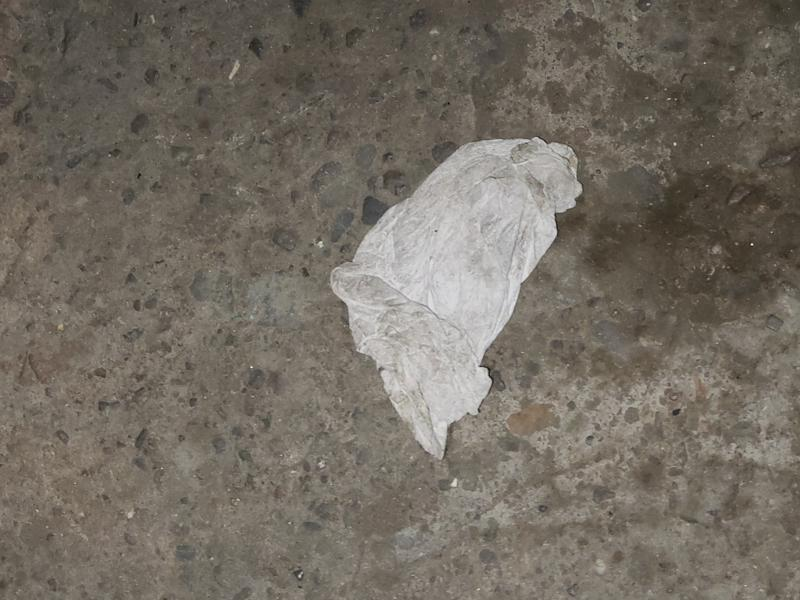papel: (328, 139, 585, 463)
